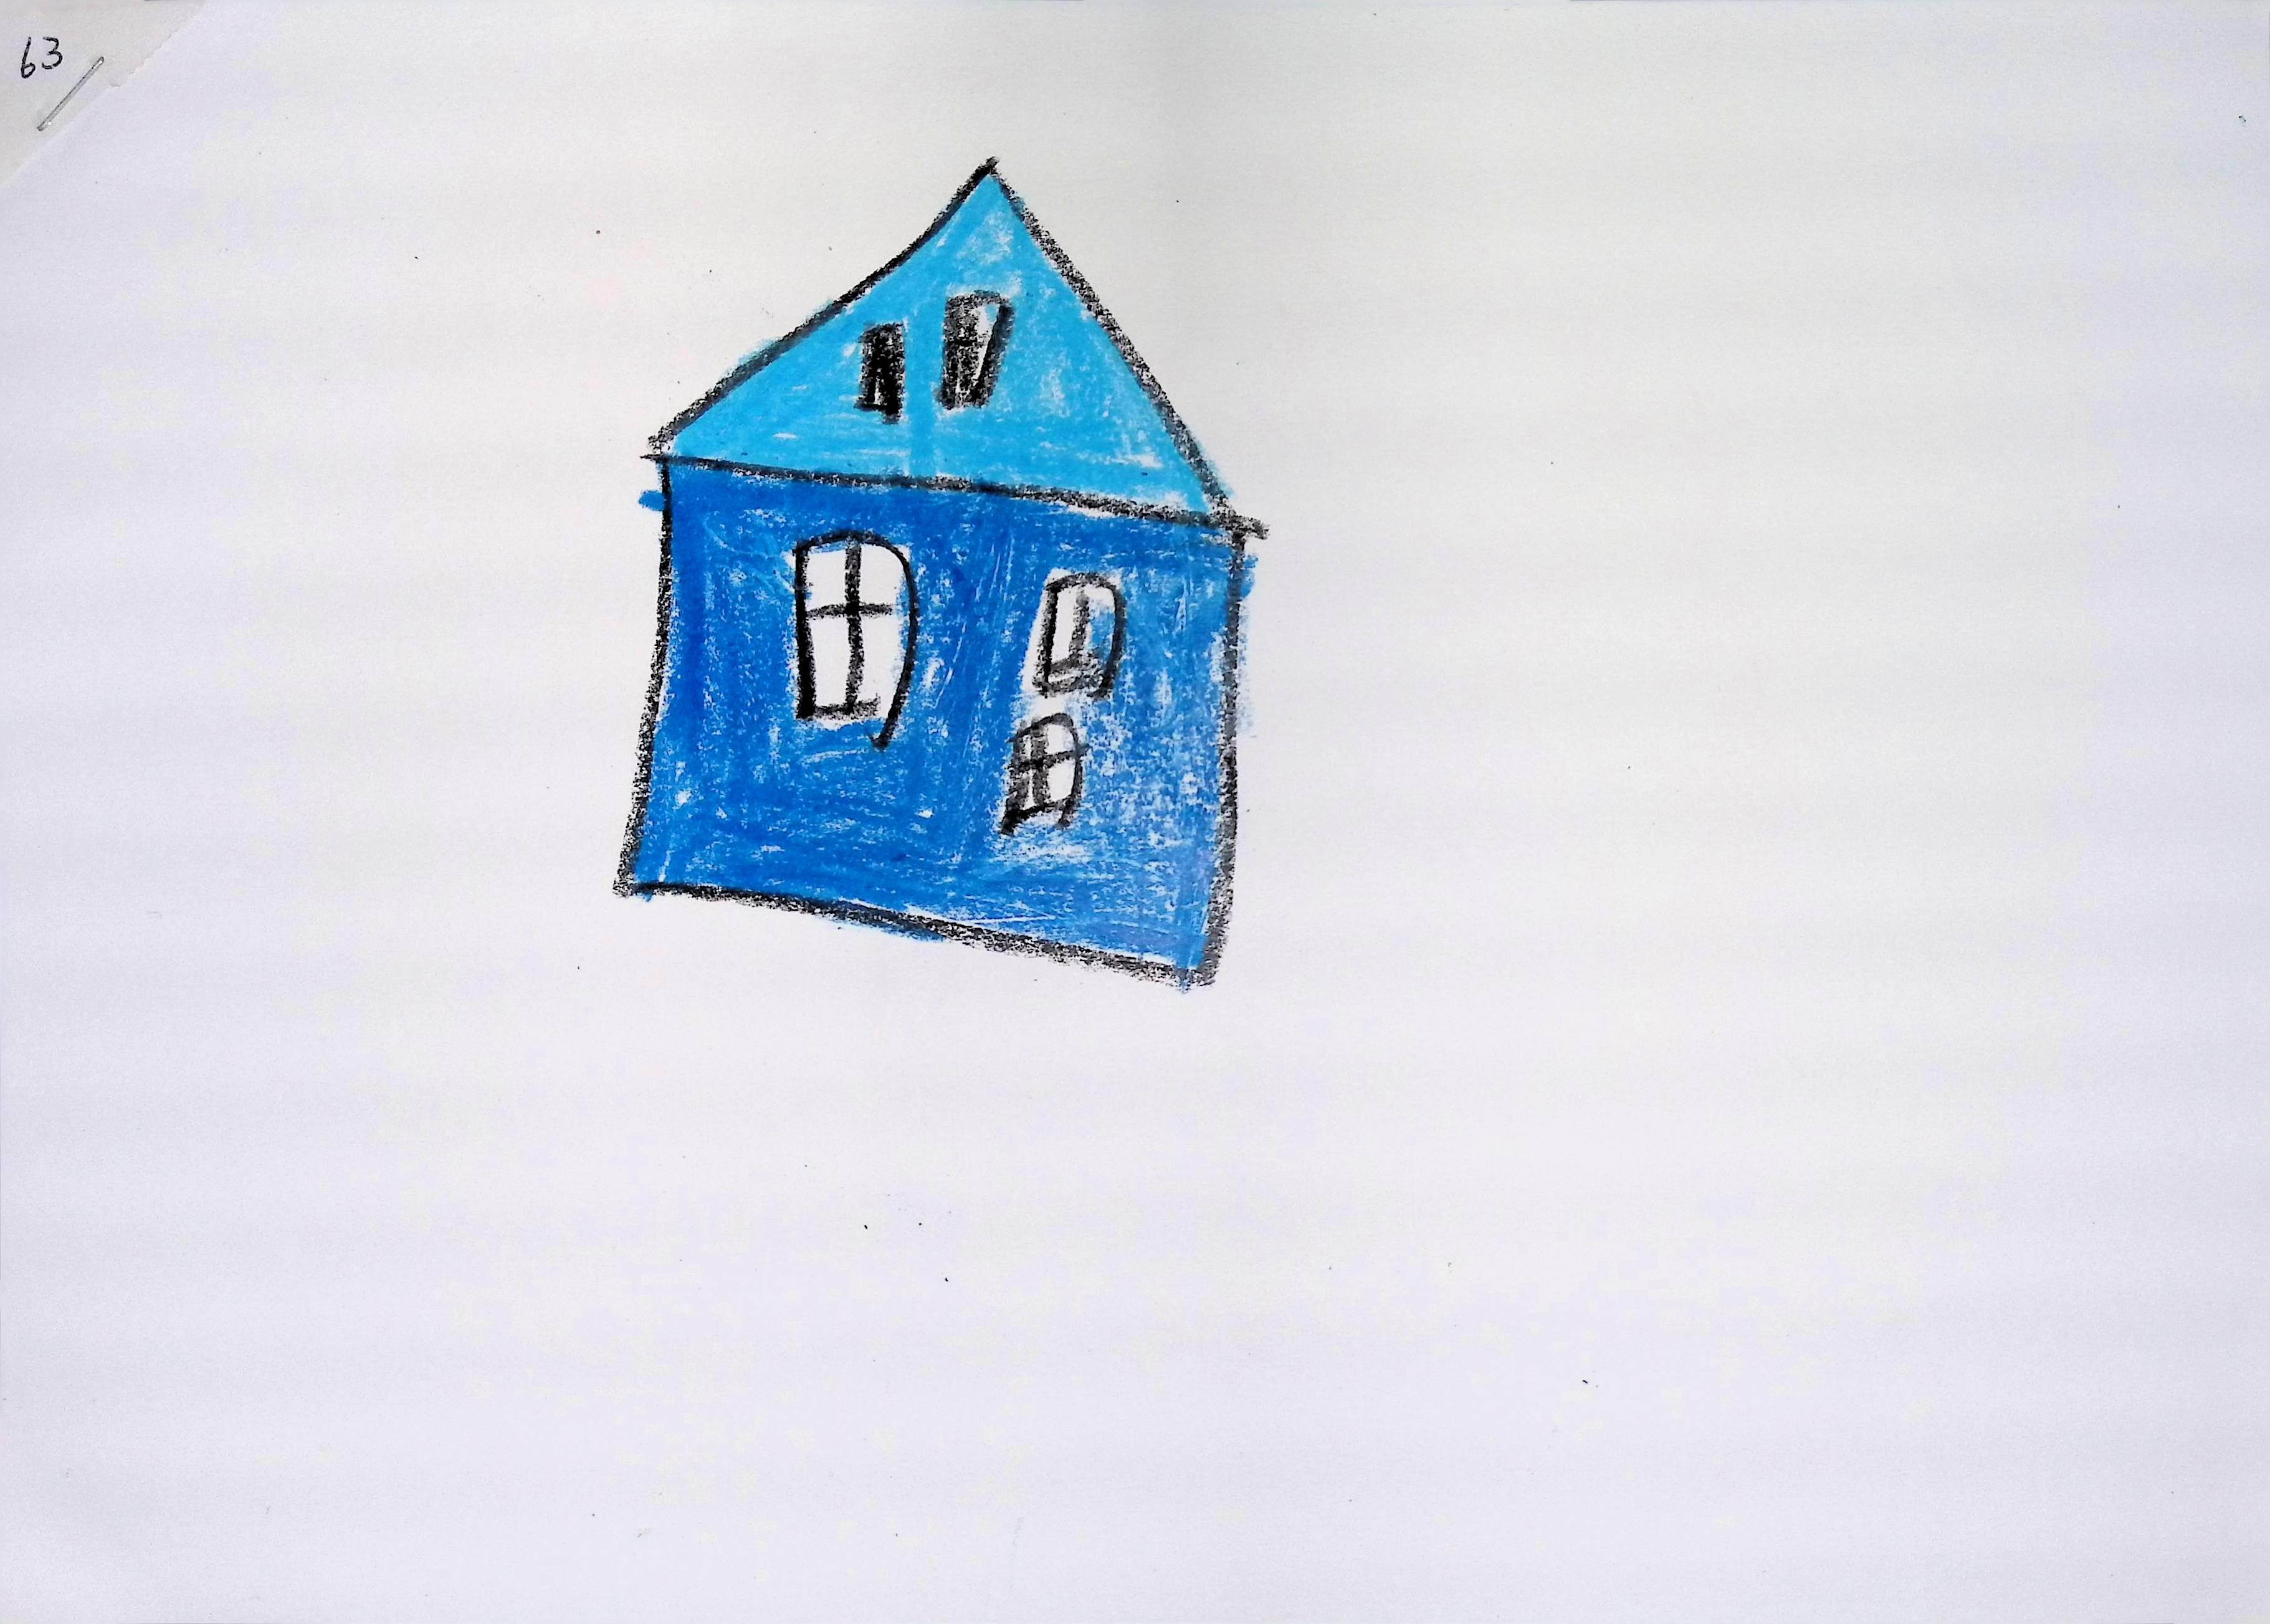house: (619, 158, 1261, 982)
roof: (633, 149, 1257, 527)
wall: (608, 469, 1252, 995)
window: (789, 527, 925, 733), (1029, 571, 1134, 698), (997, 708, 1085, 835), (932, 286, 1011, 411), (853, 318, 904, 424)
